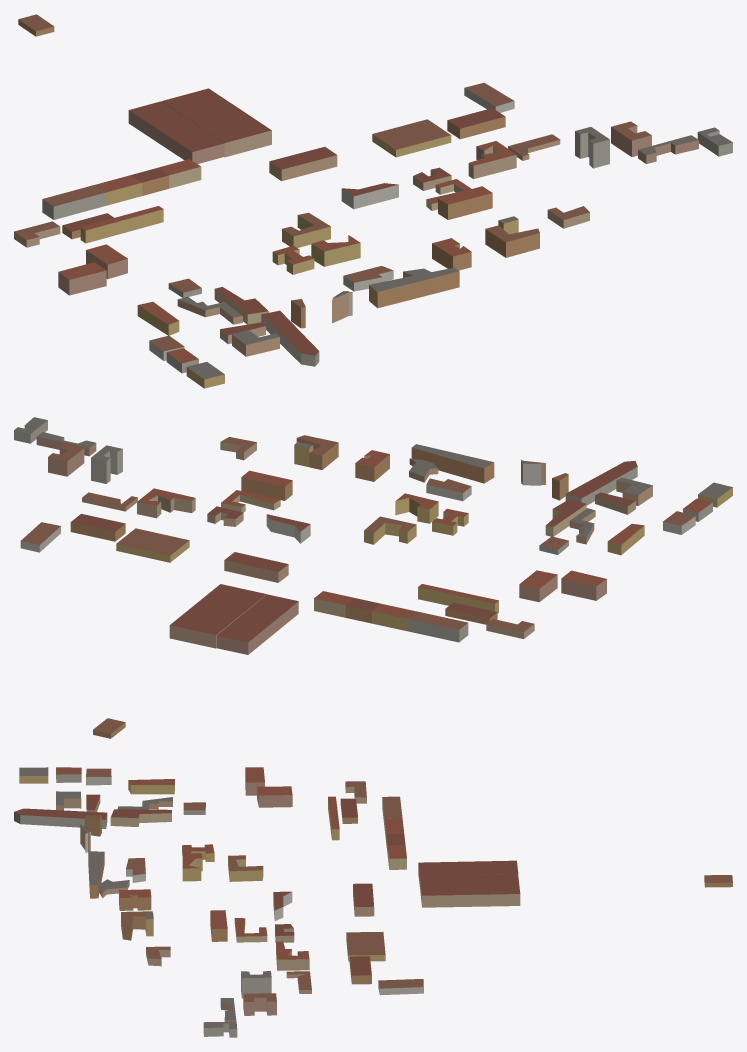
File: SM_Fondale_Citta_O_01_LOD2.fbx
3 views of the same model, one above another, from view 1: azimuth 30°, elevation 25°; view 2: azimuth 150°, elevation 25°; view 3: azimuth 270°, elevation 25° (orthographic). The views are drawn at different scales.
Parts seen in each view (by area): view 1: SM_Fondale_Citta_O_01_LOD2; view 2: SM_Fondale_Citta_O_01_LOD2; view 3: SM_Fondale_Citta_O_01_LOD2.
Boxes of the visible parts, x1,y1,x2,y2 form: SM_Fondale_Citta_O_01_LOD2: [14, 14, 732, 388]; SM_Fondale_Citta_O_01_LOD2: [14, 417, 732, 738]; SM_Fondale_Citta_O_01_LOD2: [14, 767, 732, 1037].
Bounding box in the file's own units: 81020 × 94100 × 3576.
